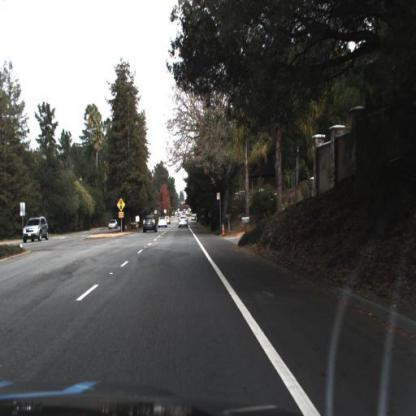car: (22, 214, 49, 241), (141, 210, 161, 238), (103, 215, 120, 233), (176, 209, 190, 228), (156, 213, 170, 231)
